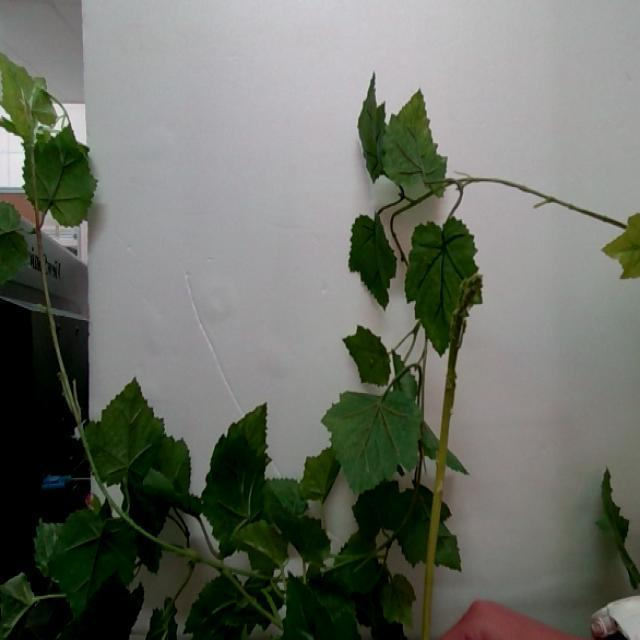aspargus: (421, 325, 465, 640)
